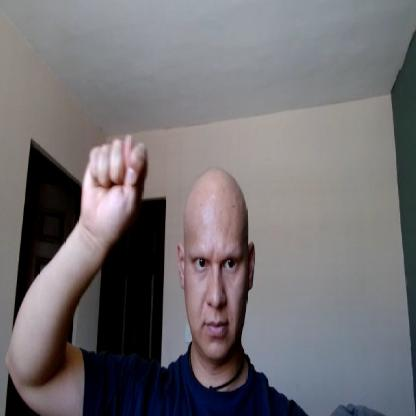T: (78, 130, 150, 234)
